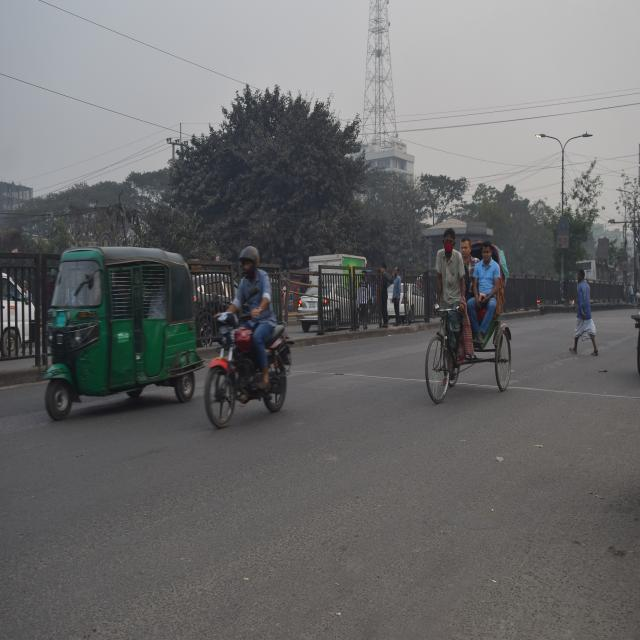bus: (576, 252, 628, 297)
car: (295, 278, 365, 343), (385, 276, 433, 334)
microbus: (1, 261, 43, 368)
motorbike: (209, 310, 296, 438)
pickup-van: (306, 244, 372, 284)
